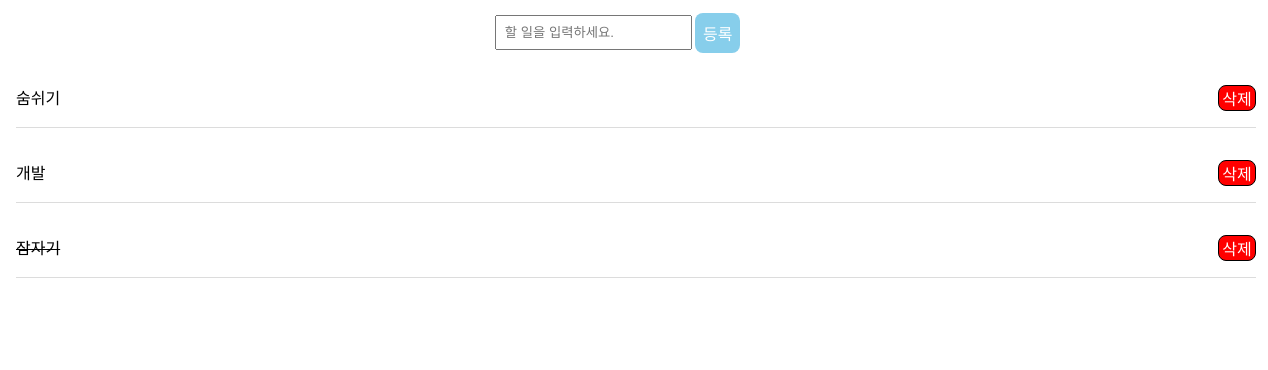
Test: <TodoApp /> › remove todo
Step 1. Type "새로운일 추가하기" into the field with placeholder "할 일을 입력하세요." → {"x": 593, "y": 33}, box [495,15,692,50]
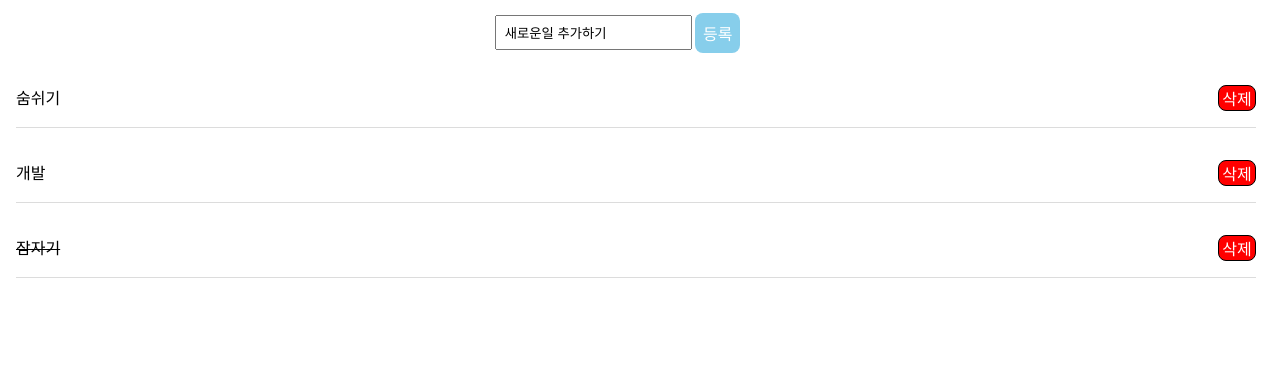
Step 2. Click the button "등록" → {"x": 718, "y": 33}, box [695,13,740,53]
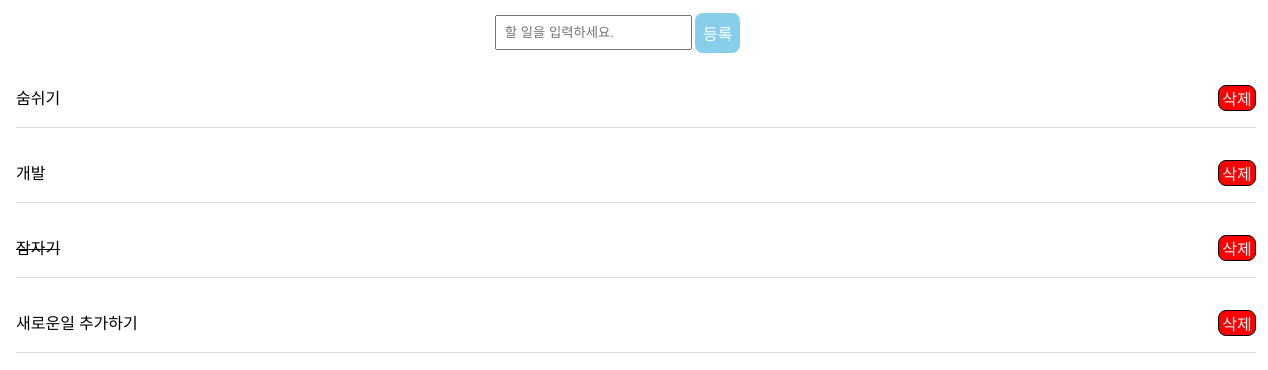
Step 3. Click the button "삭제" in the row of "새로운일 추가하기" → {"x": 1237, "y": 323}, box [1218,310,1256,336]
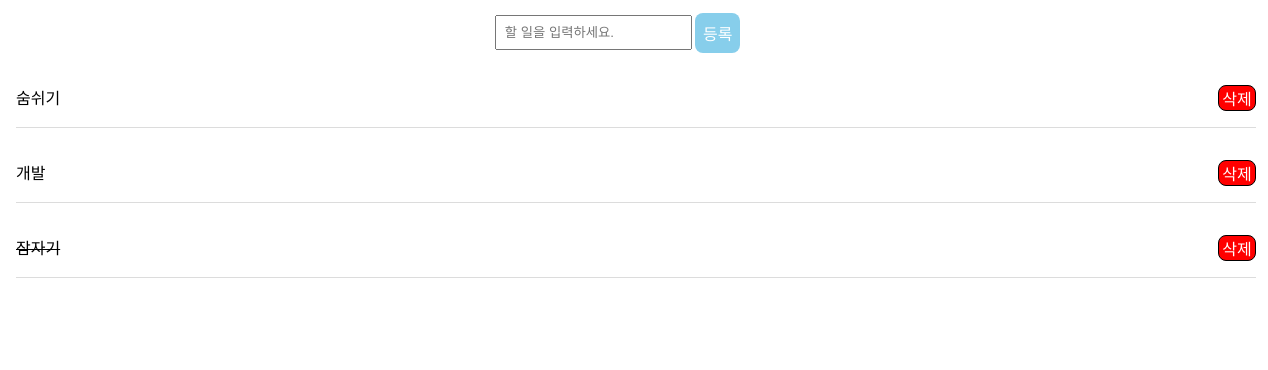
Check: the text "새로운일 추가하기" is gone
